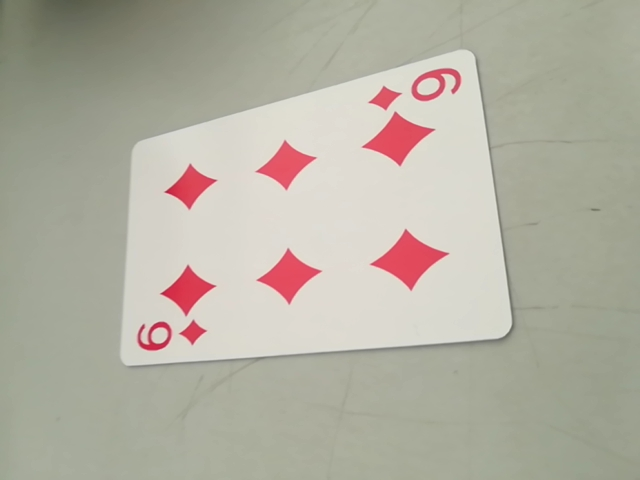fk 6: (368, 65, 466, 111), (130, 313, 211, 365)
